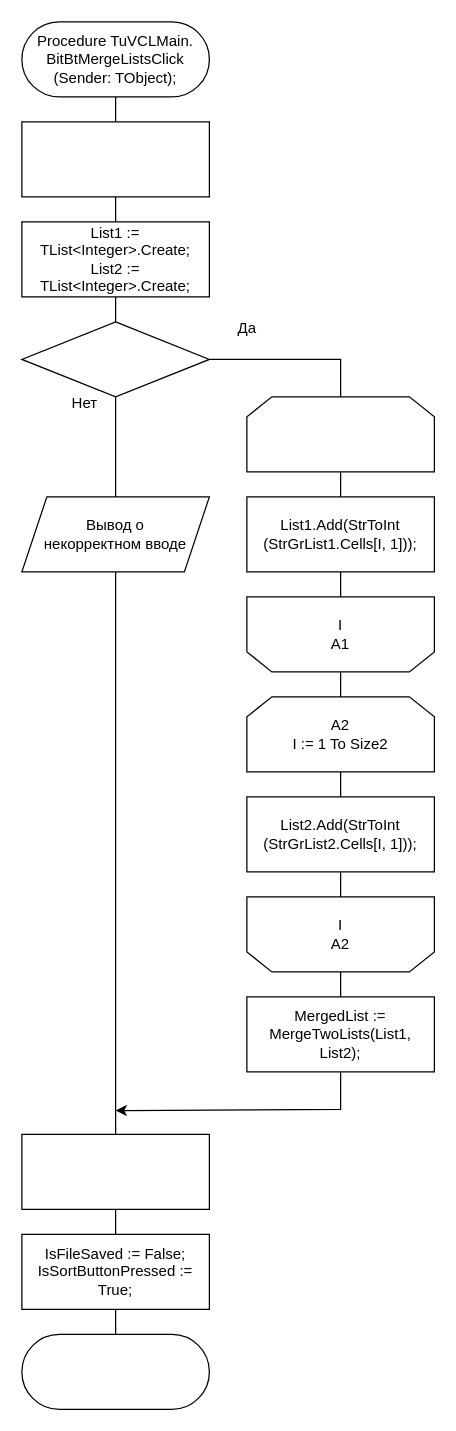
This 456x1431 diagram has some shape labels left out. Each missing label, with the centre of its shape:
"A1 I := 1 To Size1" belongs at point 340,434.
"BitbtShowList.Enabled := True; BtSaveFile.Enabled := True;" belongs at point 115,1171.
"Not IsListDecreasing" belongs at point 115,359.
"Size1 := StrToInt(ESize1.Text); Size2 := StrToInt(ESize2.Text);" belongs at point 115,159.
"Конец" belongs at point 115,1371.
